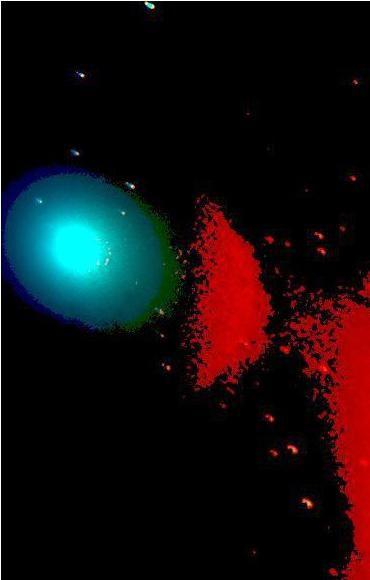star: (125, 266, 155, 296)
